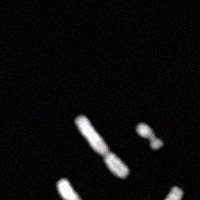chromosome: (75, 115, 129, 179), (135, 122, 162, 149), (141, 186, 182, 200), (56, 178, 82, 200)
